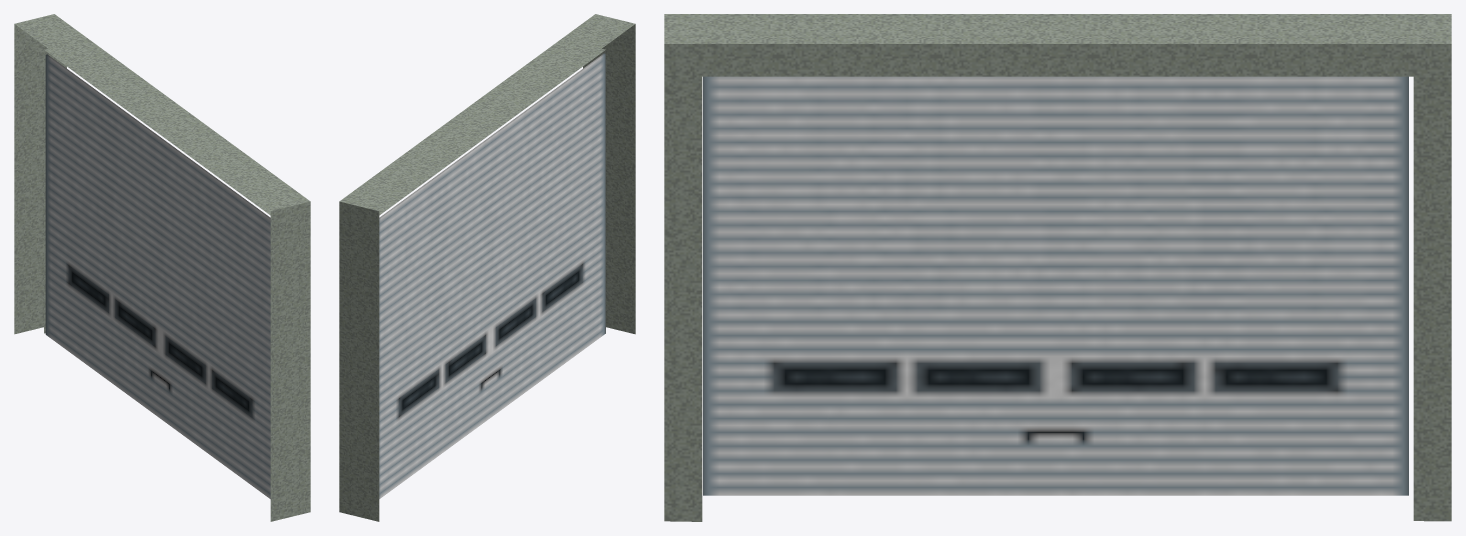
The model's file is BG_GARAGE DOOR1.fbx.
The picture shows the model from 3 angles, left to right: view 1: azimuth 30°, elevation 25°; view 2: azimuth 150°, elevation 25°; view 3: azimuth 270°, elevation 25°; orthographic projection. The views are drawn at different scales.
Parts seen in each view (by area): view 1: BG_GARAGE_DOOR1; view 2: BG_GARAGE_DOOR1; view 3: BG_GARAGE_DOOR1.
Boxes of the visible parts, x1,y1,x2,y2 form: BG_GARAGE_DOOR1: (14,14,310,521); BG_GARAGE_DOOR1: (339,14,635,521); BG_GARAGE_DOOR1: (664,14,1451,521).
Bounding box in the file's own units: 45.36 × 335 × 500.
